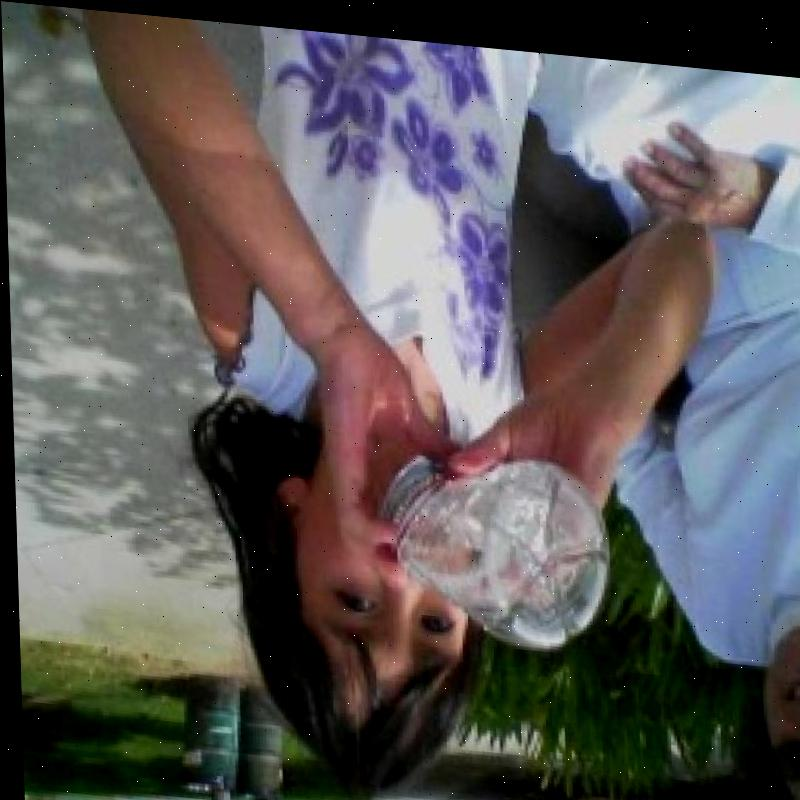botella: (374, 435, 609, 644)
